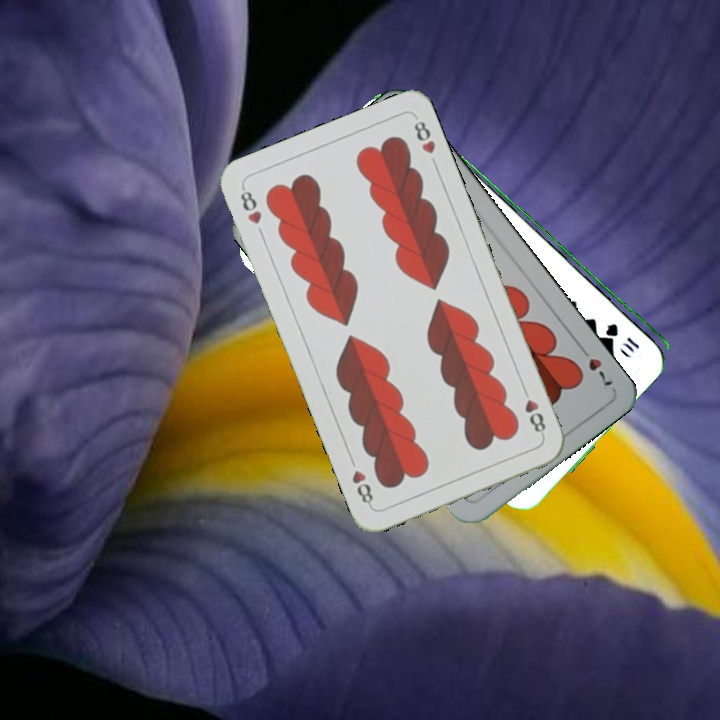G10: (603, 318, 642, 355)
H7: (574, 341, 616, 389)
H8: (518, 382, 549, 439), (236, 183, 264, 227)
